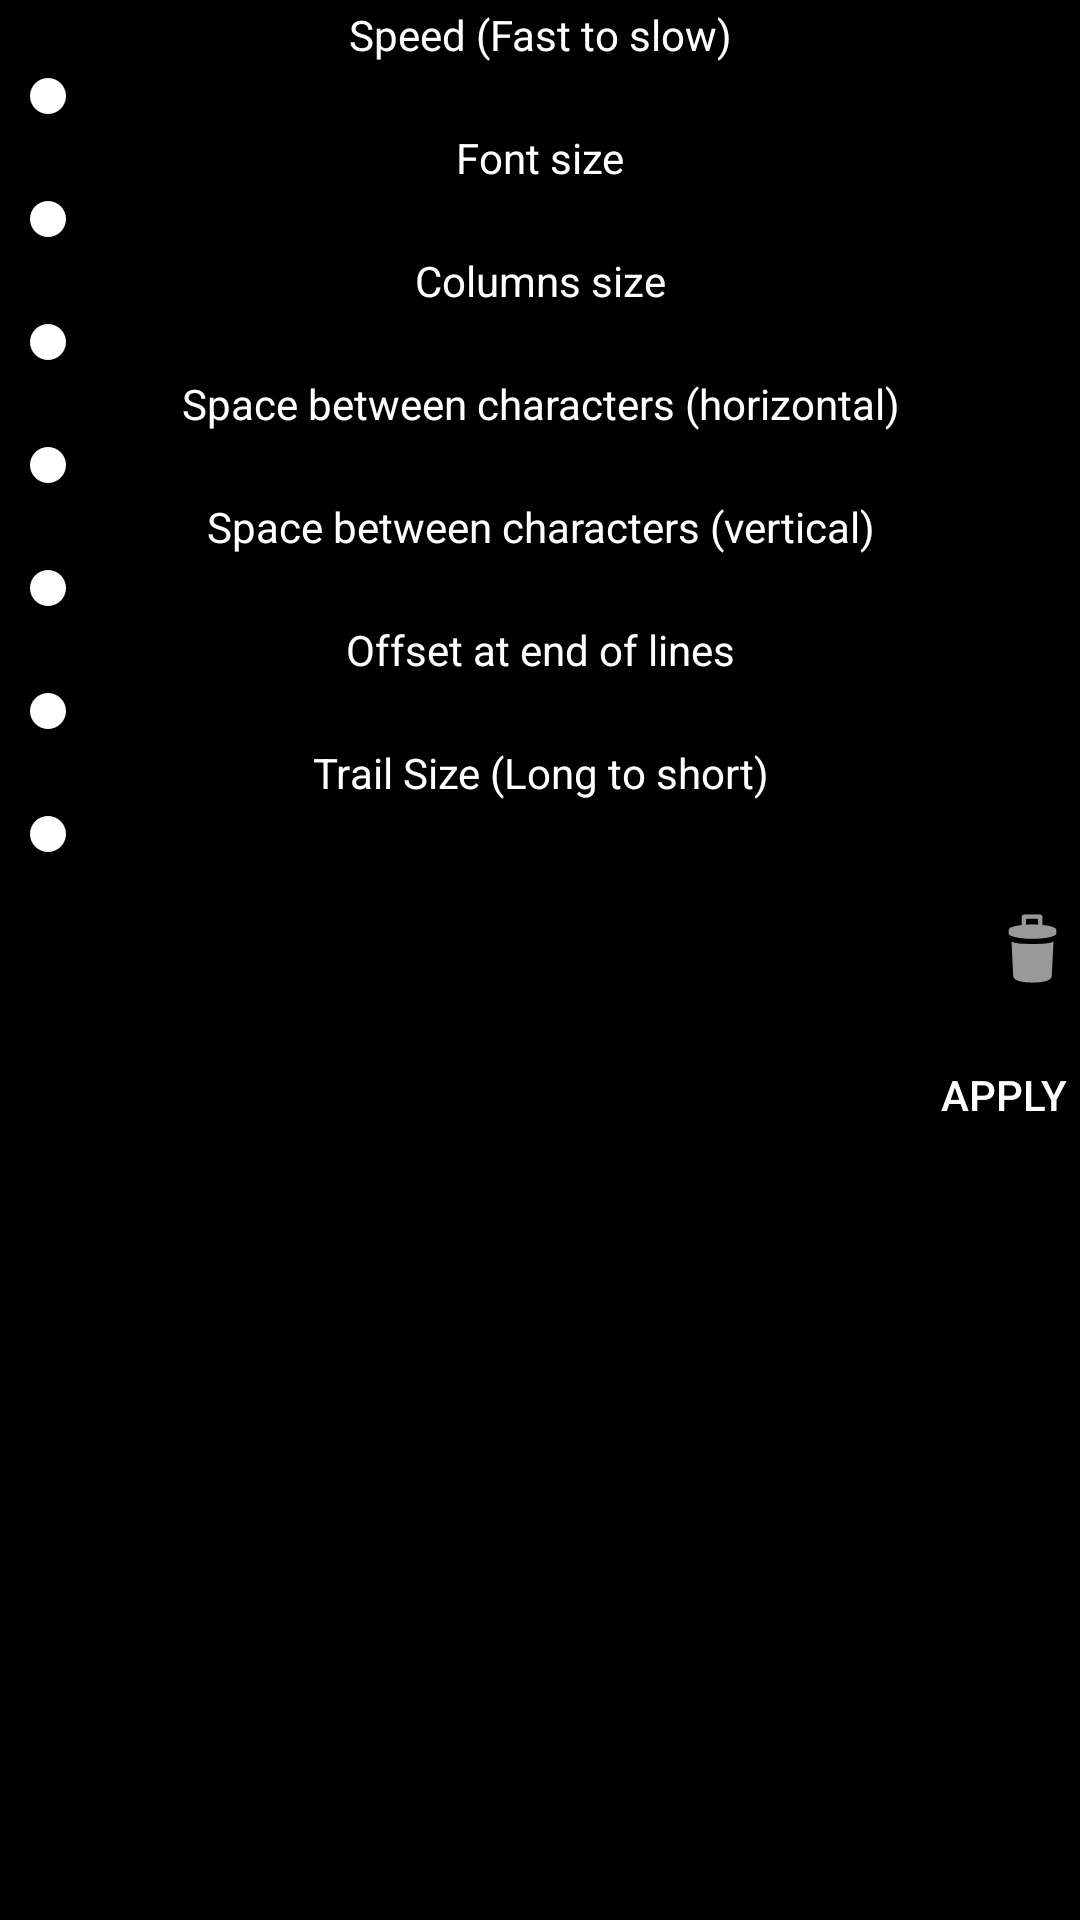

Screen size 1080px×1920px. Icon name, then its box in pixels as {"left": x1, "top": y1, "right": x2, "bottom": y2}:
delete: {"left": 1008, "top": 914, "right": 1057, "bottom": 983}
